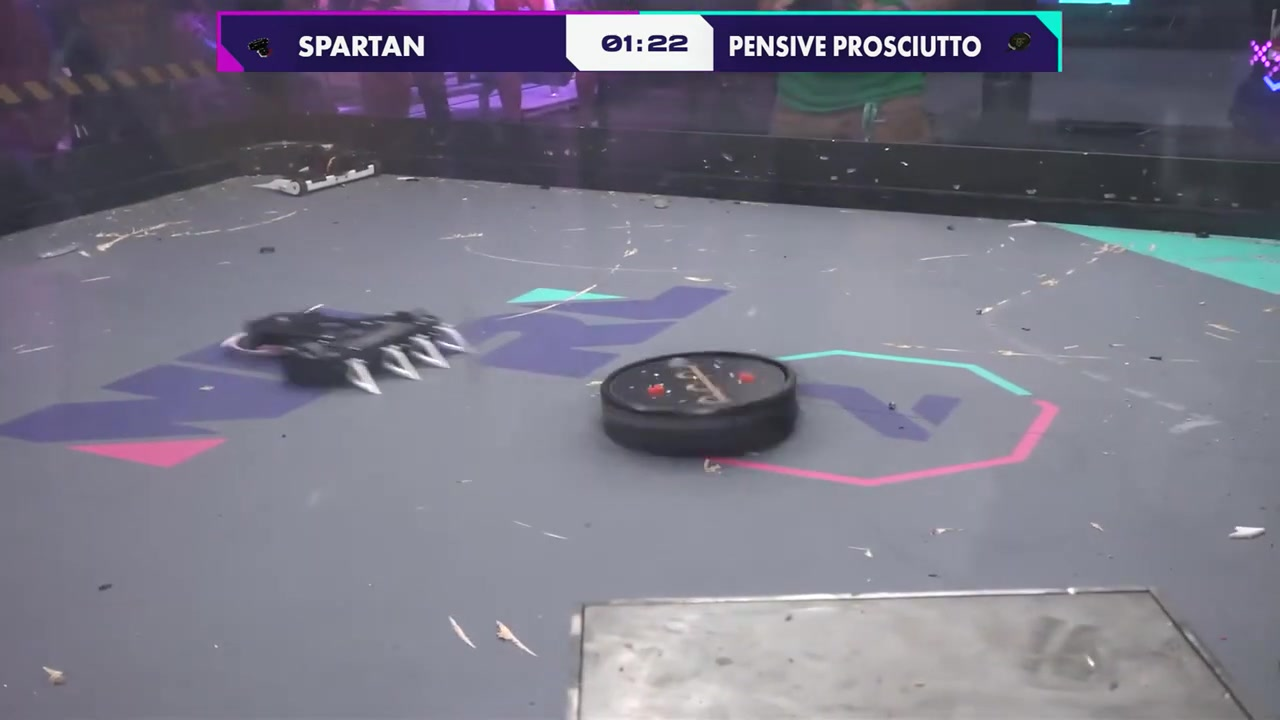combatbot: (224, 306, 472, 402), (596, 350, 803, 455), (253, 145, 381, 197)
debris: (542, 597, 1257, 720)
